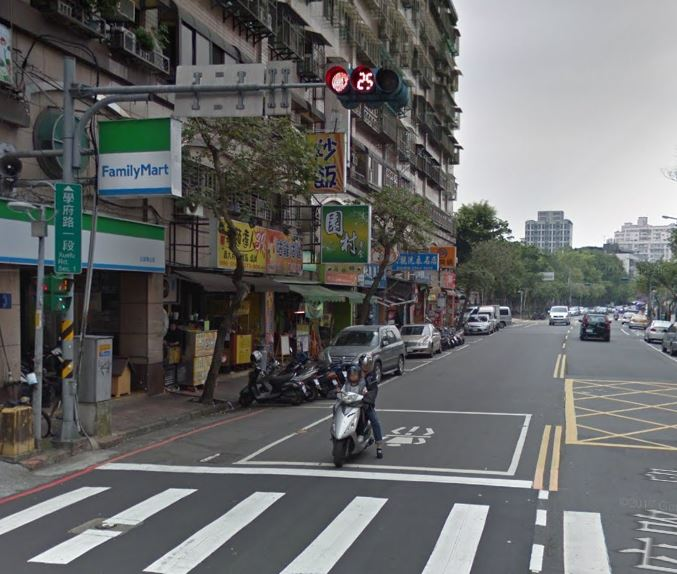Traffic_light_red: (324, 64, 406, 101)
motorcycle: (329, 379, 374, 467)
